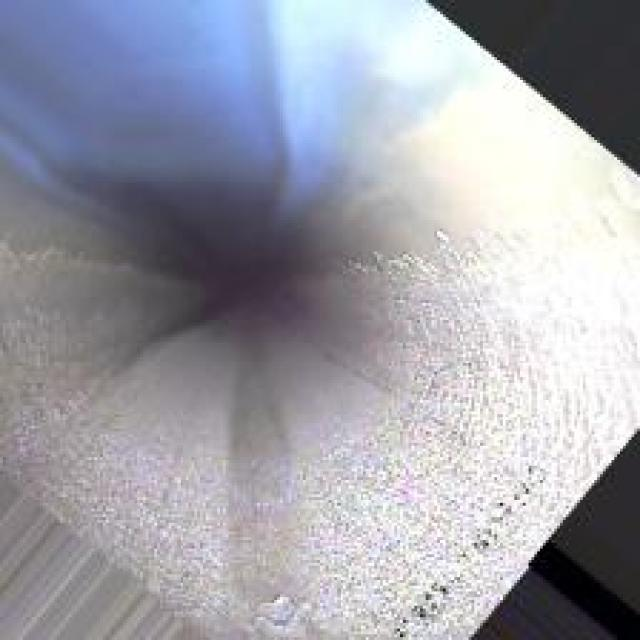ferrule: (243, 583, 317, 634)
